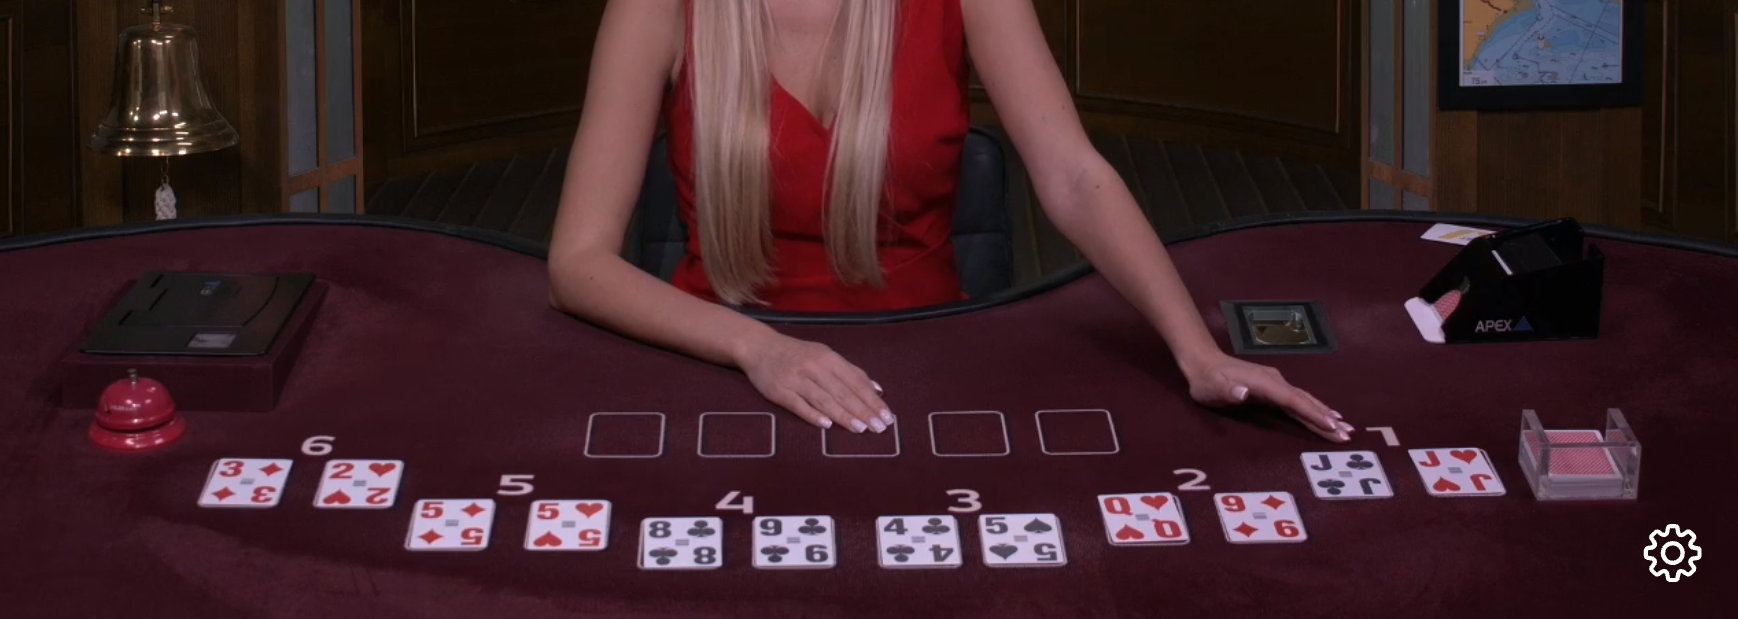2h: (316, 451, 406, 516)
3d: (200, 446, 289, 511)
4c: (875, 511, 967, 569)
5d: (401, 495, 497, 555)
5h: (528, 493, 618, 554)
5s: (974, 506, 1070, 574)
8c: (638, 515, 725, 572)
9c: (748, 509, 841, 574)
9d: (1210, 487, 1307, 545)
jc: (1295, 444, 1394, 504)
jh: (1401, 442, 1507, 500)
qh: (1093, 488, 1192, 546)
